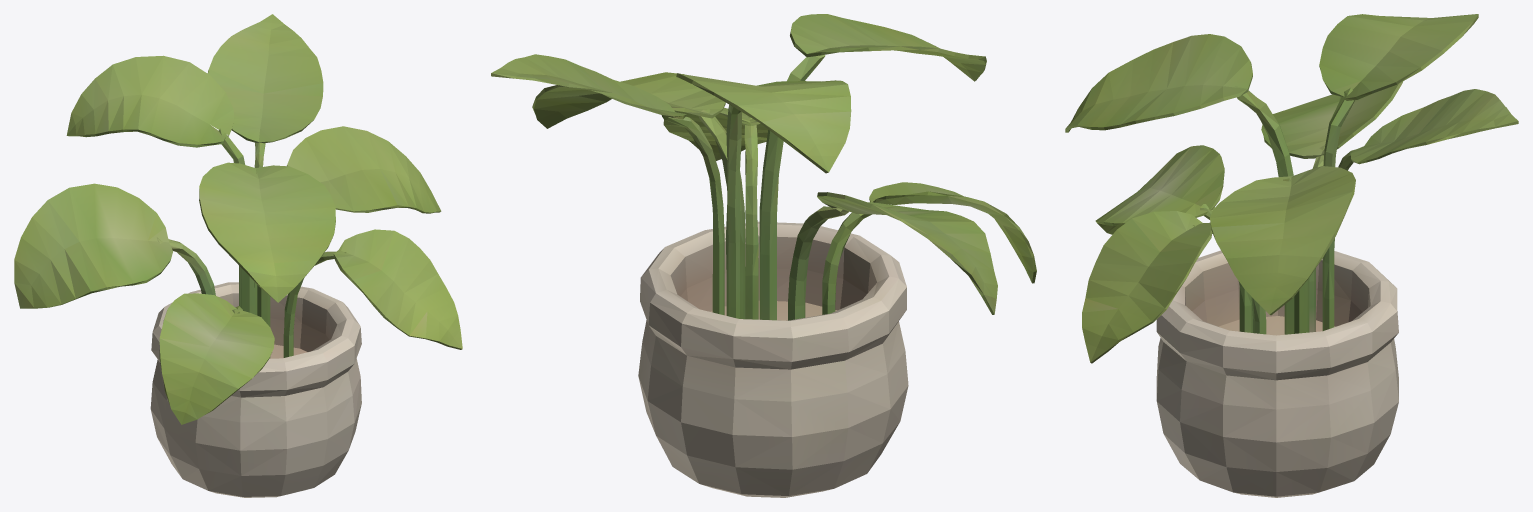
File: plant.glb
3 renders of one model, left to right at view 1: azimuth 30°, elevation 25°; view 2: azimuth 150°, elevation 25°; view 3: azimuth 270°, elevation 25°, orthographic. The views are drawn at different scales.
Parts seen in each view (by area): view 1: geometry_0; view 2: geometry_0; view 3: geometry_0.
Part boxes in pixels (x1,y1,x2,y2): geometry_0: (14, 14, 462, 497); geometry_0: (491, 14, 1036, 497); geometry_0: (1065, 14, 1518, 497).
Bounding box in the file's own units: 0.1538 × 0.1367 × 0.1333.
